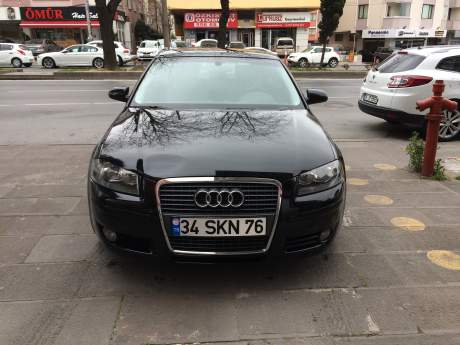audi: (191, 187, 245, 211)
